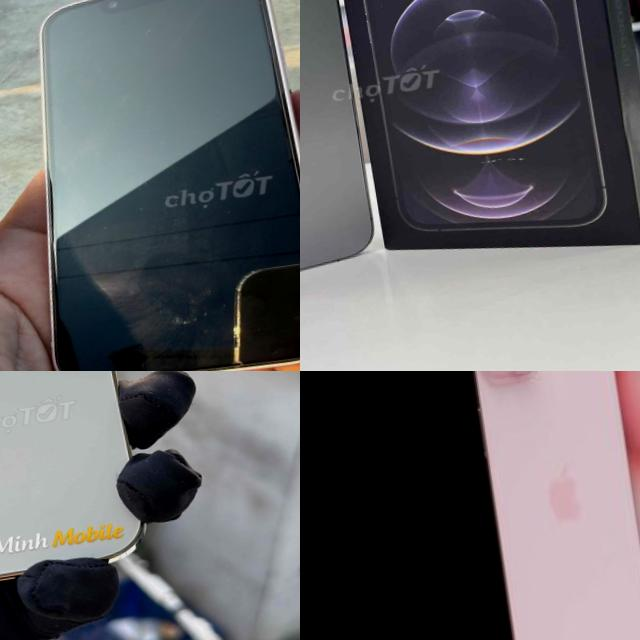gen_12_13: (0, 0, 300, 371), (300, 0, 400, 315)
gen_14: (0, 371, 154, 602)
gen_15: (455, 371, 640, 640)
